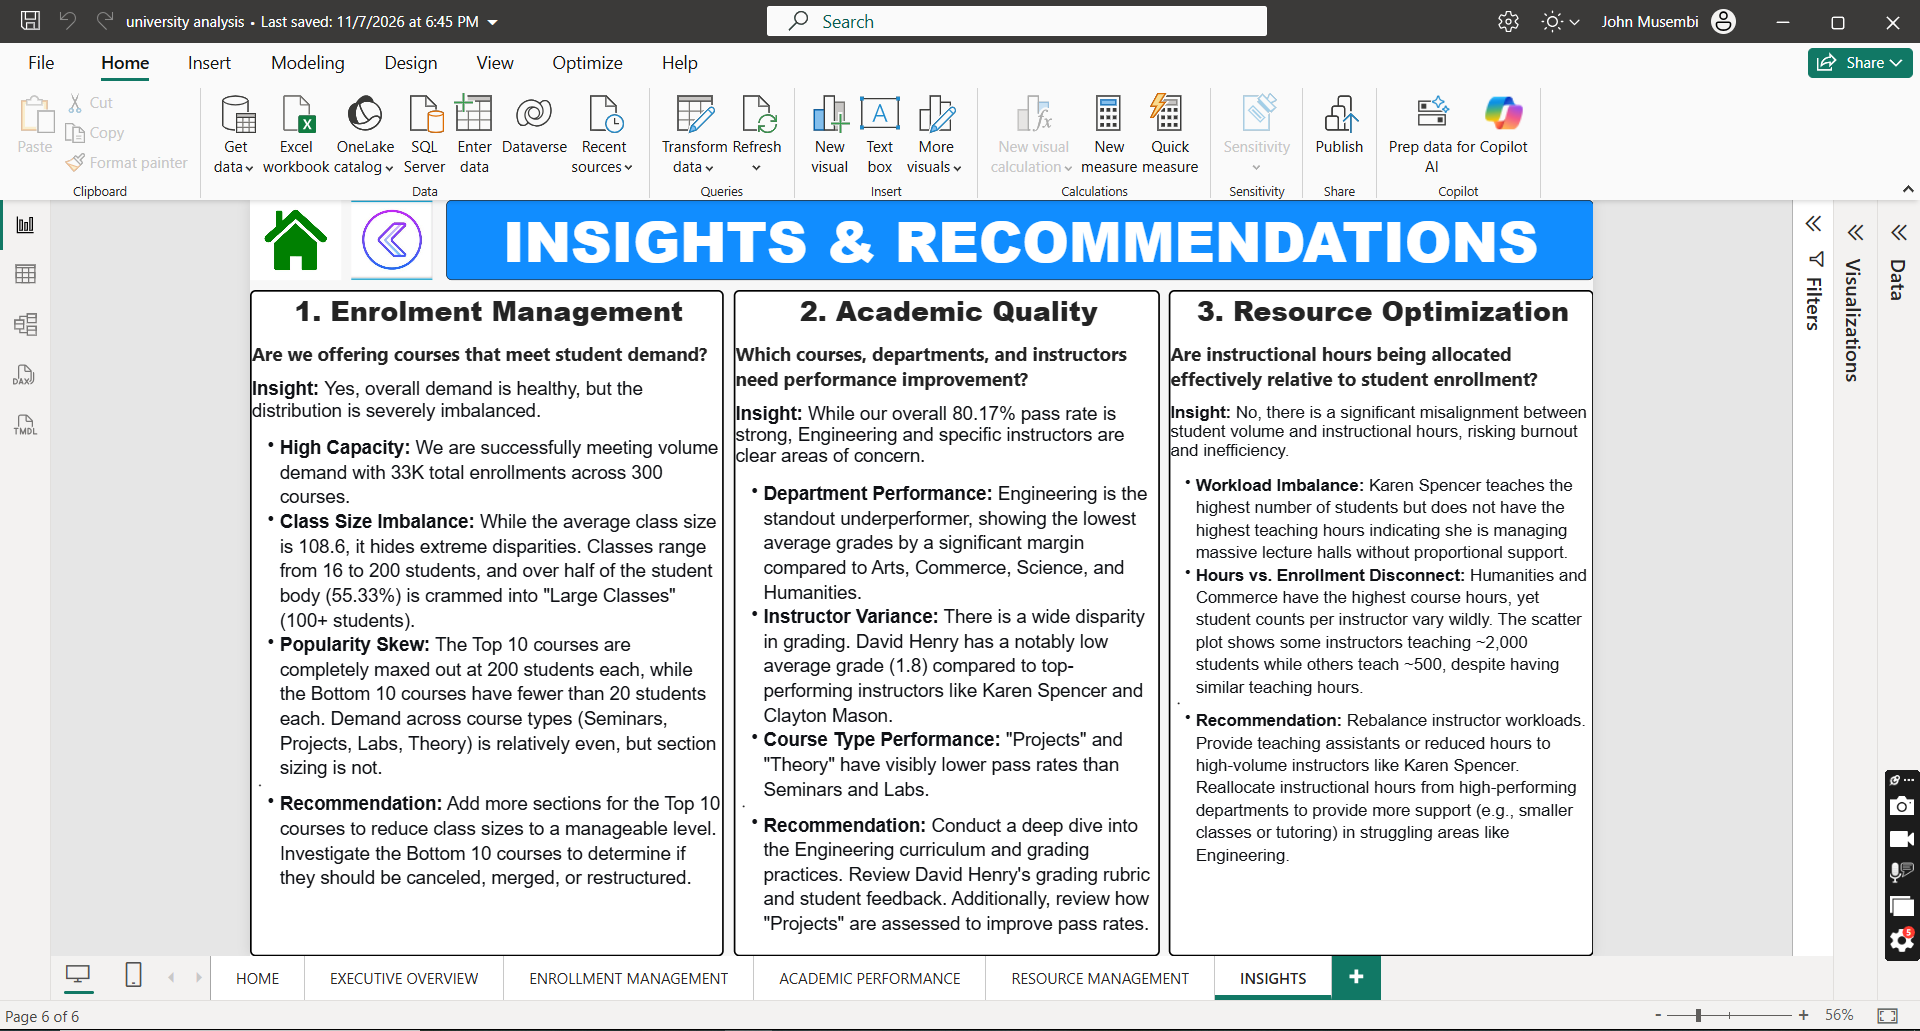

The page's visual inventory and layout, read from the dashboard file:
{"tool":"powerbi","page":{"name":"INSIGHTS","canvas":[1920,1080],"ordinal":5},"visuals":[{"type":"textbox","title":"1. Enrolment Management","box":[0,128.6,676.8,951.8],"z":0},{"type":"textbox","title":"2. Academic Quality","box":[691.1,128.6,608.9,951.8],"z":1},{"type":"textbox","title":"3. Resource Optimization","box":[1312.5,128.6,607.1,951.8],"z":2},{"type":"textbox","title":"INSIGHTS & RECOMMENDATIONS","box":[280.4,0,1639.3,114.3],"z":3},{"type":"image","box":[0,0,130.4,114.3],"z":4},{"type":"image","box":[144.6,0,116.1,114.3],"z":5}]}

Visuals, with their boxes on the page's 1920x1080 design canvas (x1, y1, x2, y2). These are canvas units, not pixel positions in the 1920x1031 screenshot, which may show the page scaled, cropped or inside an application window:
"1. Enrolment Management" textbox: box=[0, 129, 677, 1080]
"2. Academic Quality" textbox: box=[691, 129, 1300, 1080]
"3. Resource Optimization" textbox: box=[1312, 129, 1920, 1080]
"INSIGHTS & RECOMMENDATIONS" textbox: box=[280, 0, 1920, 114]
image: box=[0, 0, 130, 114]
image: box=[145, 0, 261, 114]
